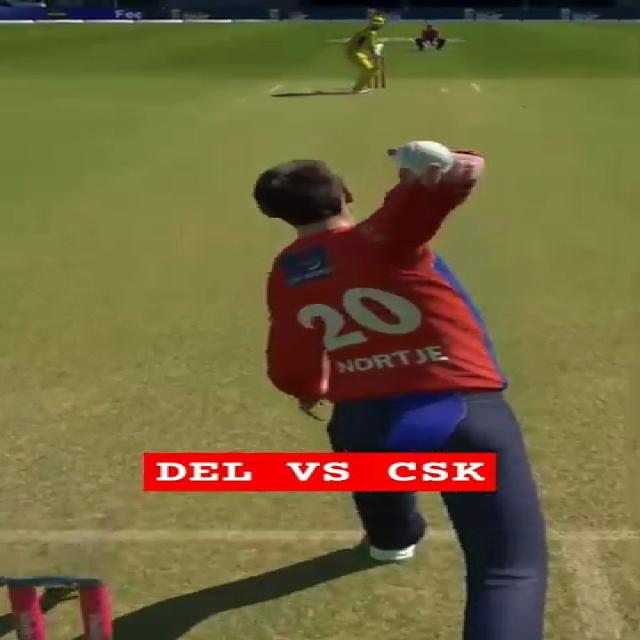ball: (388, 140, 455, 174)
